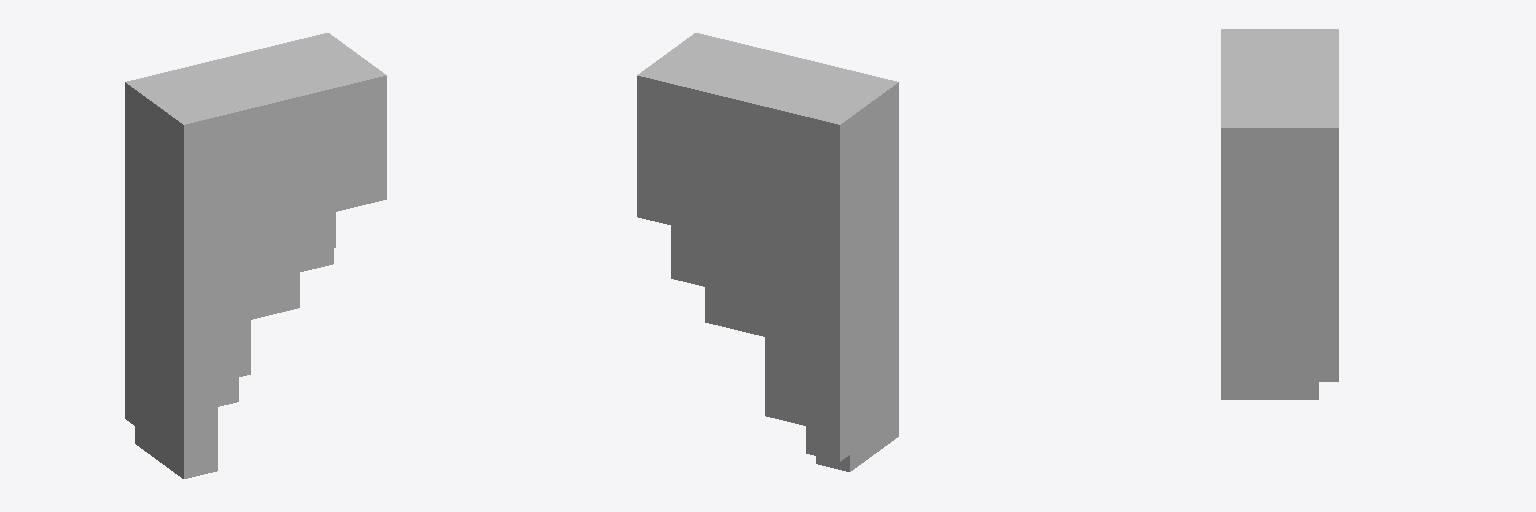
Rendered from cliff joiner.obj.
3 renders of one model, left to right at view 1: azimuth 30°, elevation 25°; view 2: azimuth 150°, elevation 25°; view 3: azimuth 270°, elevation 25°, orthographic.
Size of the model in its own units: 12 by 20 by 6.